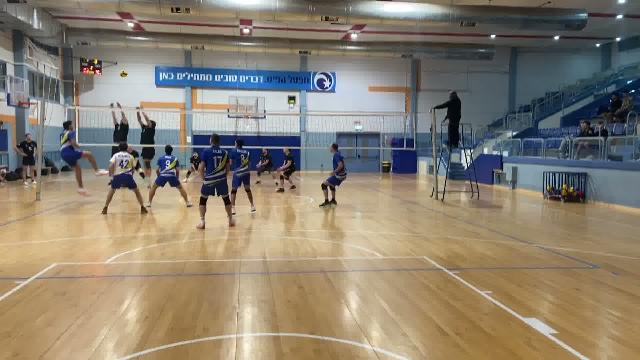ball: (117, 69, 130, 80)
